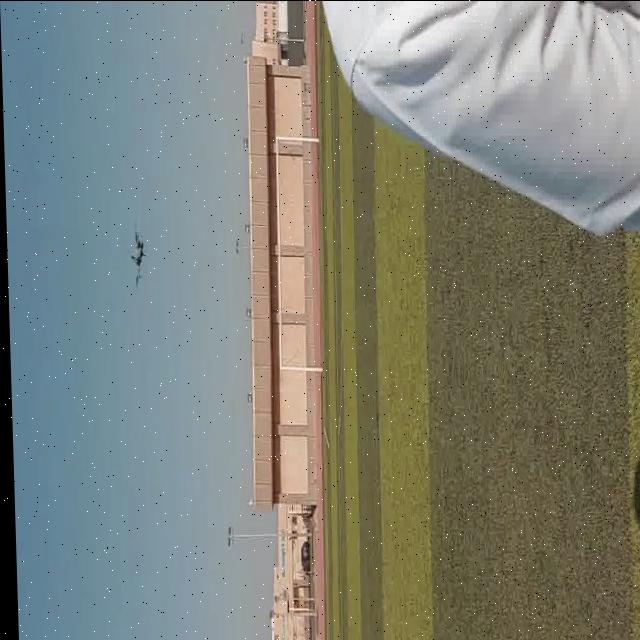drone: (121, 218, 147, 286)
